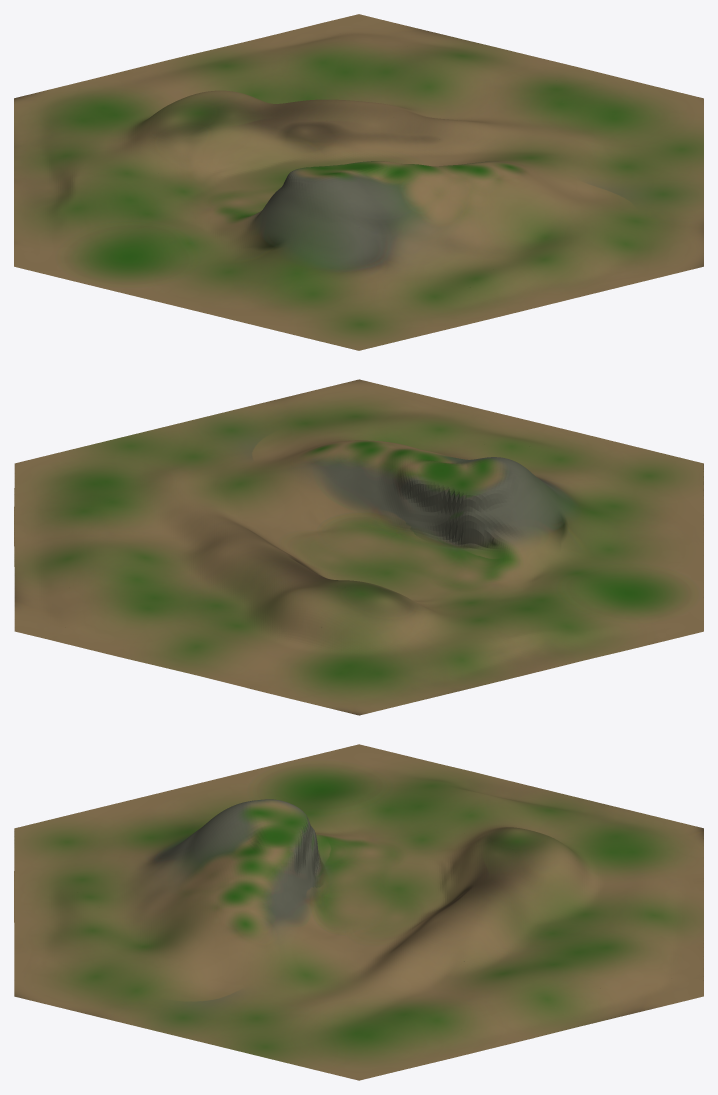
File: Forest1.glb
3 renders of one model, top to bottom at view 1: azimuth 30°, elevation 25°; view 2: azimuth 150°, elevation 25°; view 3: azimuth 270°, elevation 25°, orthographic.
Parts seen in each view (by area): view 1: Circle; view 2: Circle; view 3: Circle.
Boxes of the visible parts, bbox=[...] form: Circle: bbox=[14, 14, 703, 350]; Circle: bbox=[14, 379, 703, 715]; Circle: bbox=[14, 744, 703, 1080].
Size of the model in its own units: 400 by 37.82 by 347.
1 material, 1 textured.
